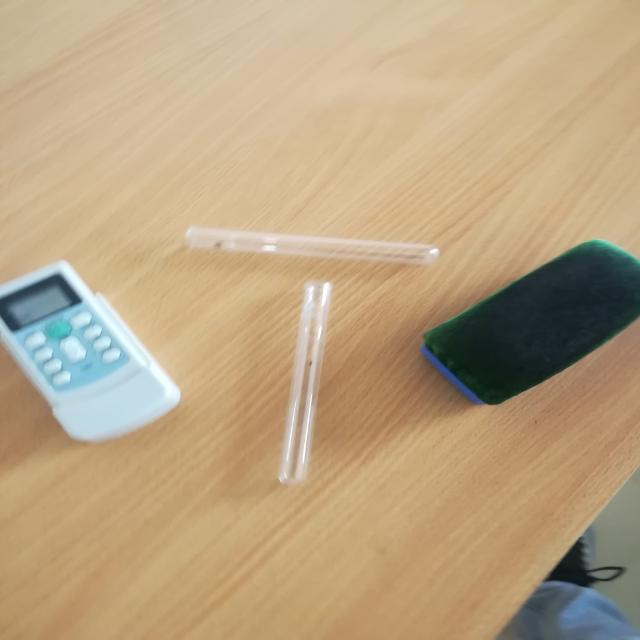Test_Tube: (242, 260, 374, 503), (153, 205, 471, 283)
